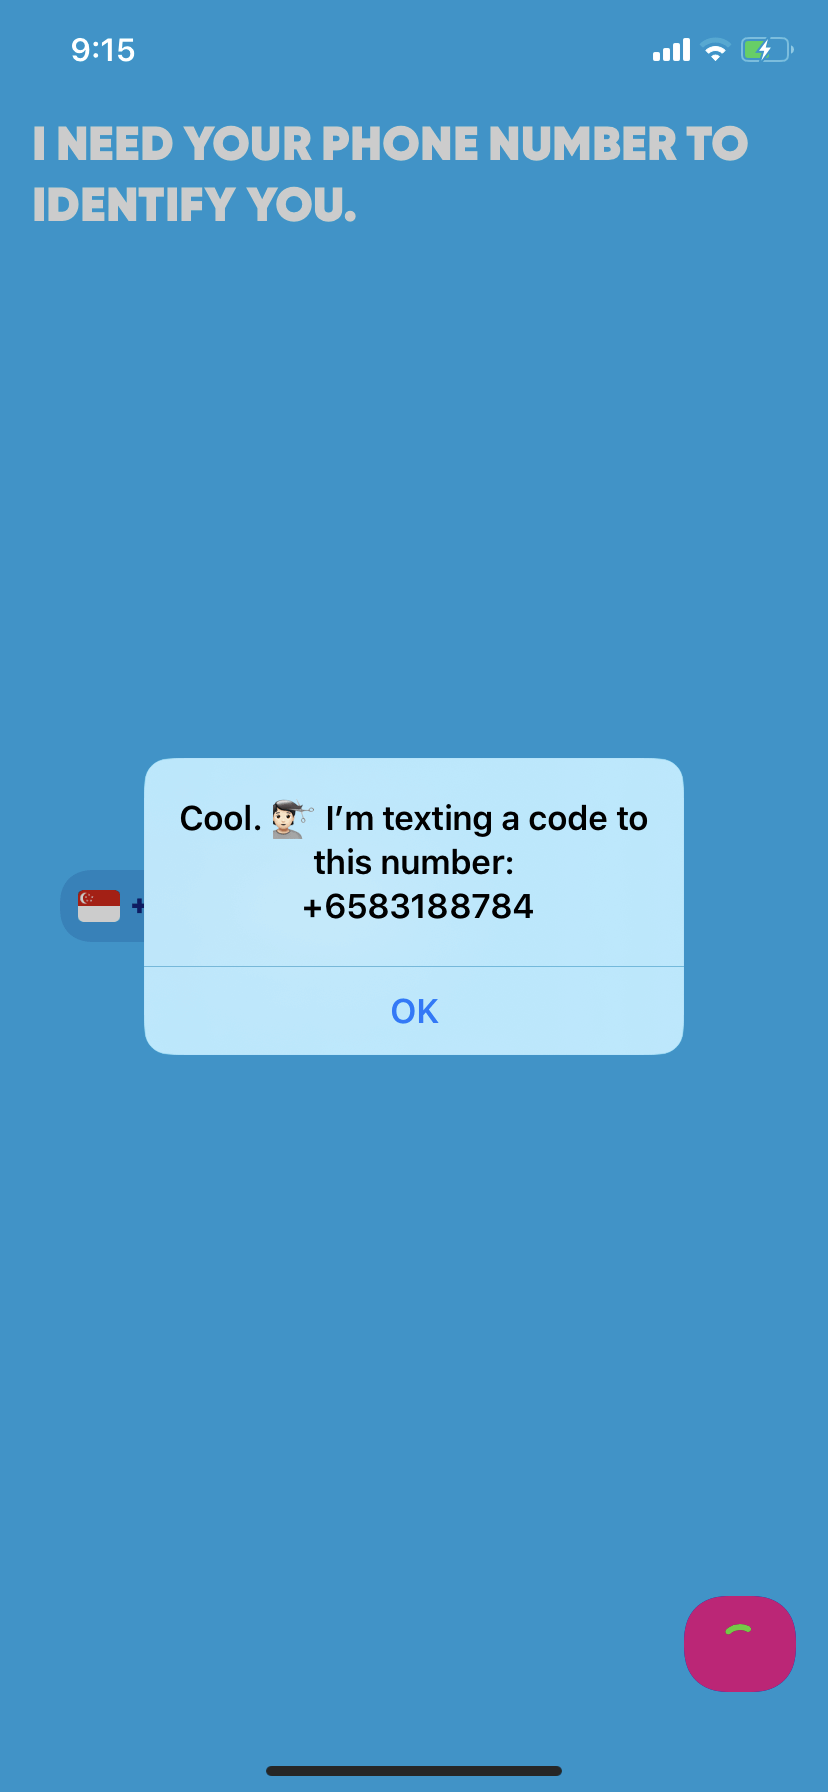FAB (Floating Action Button): (674, 1583, 809, 1706)
